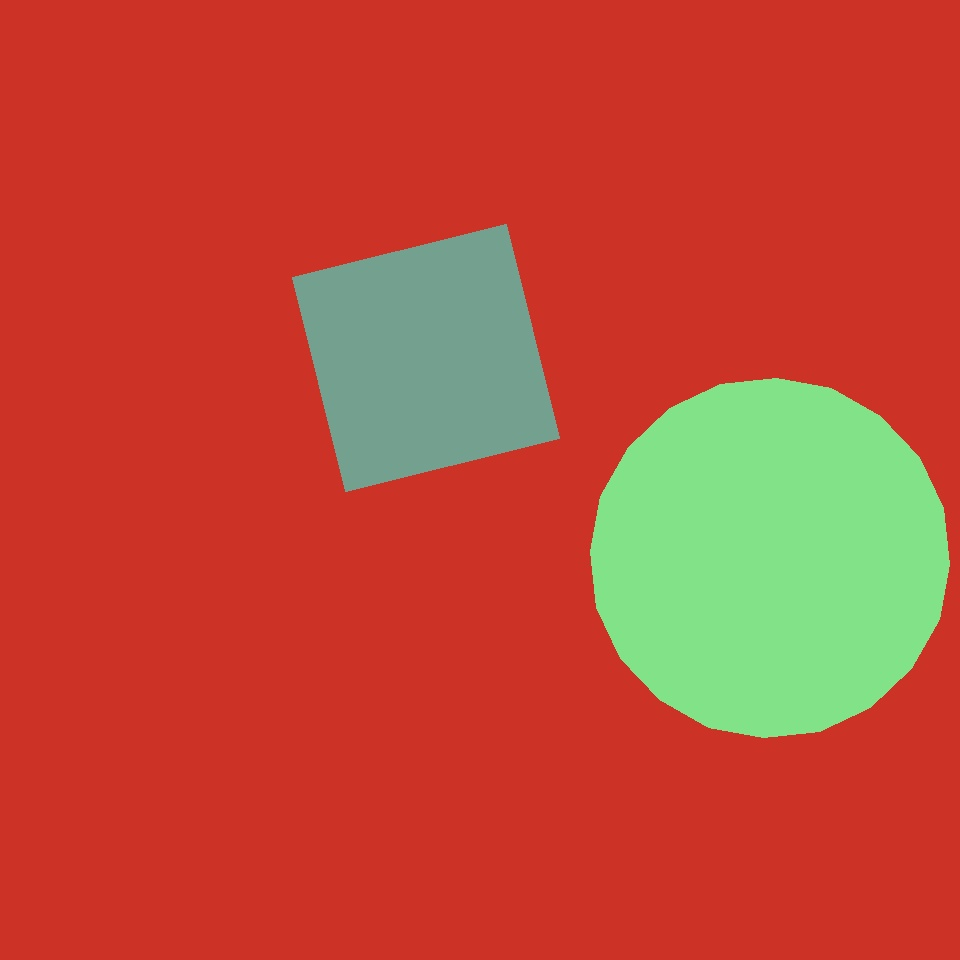circle: (110, 376, 327, 611)
square: (292, 224, 560, 492), (41, 387, 185, 531)
triangle: (590, 378, 950, 738), (427, 537, 633, 742)
